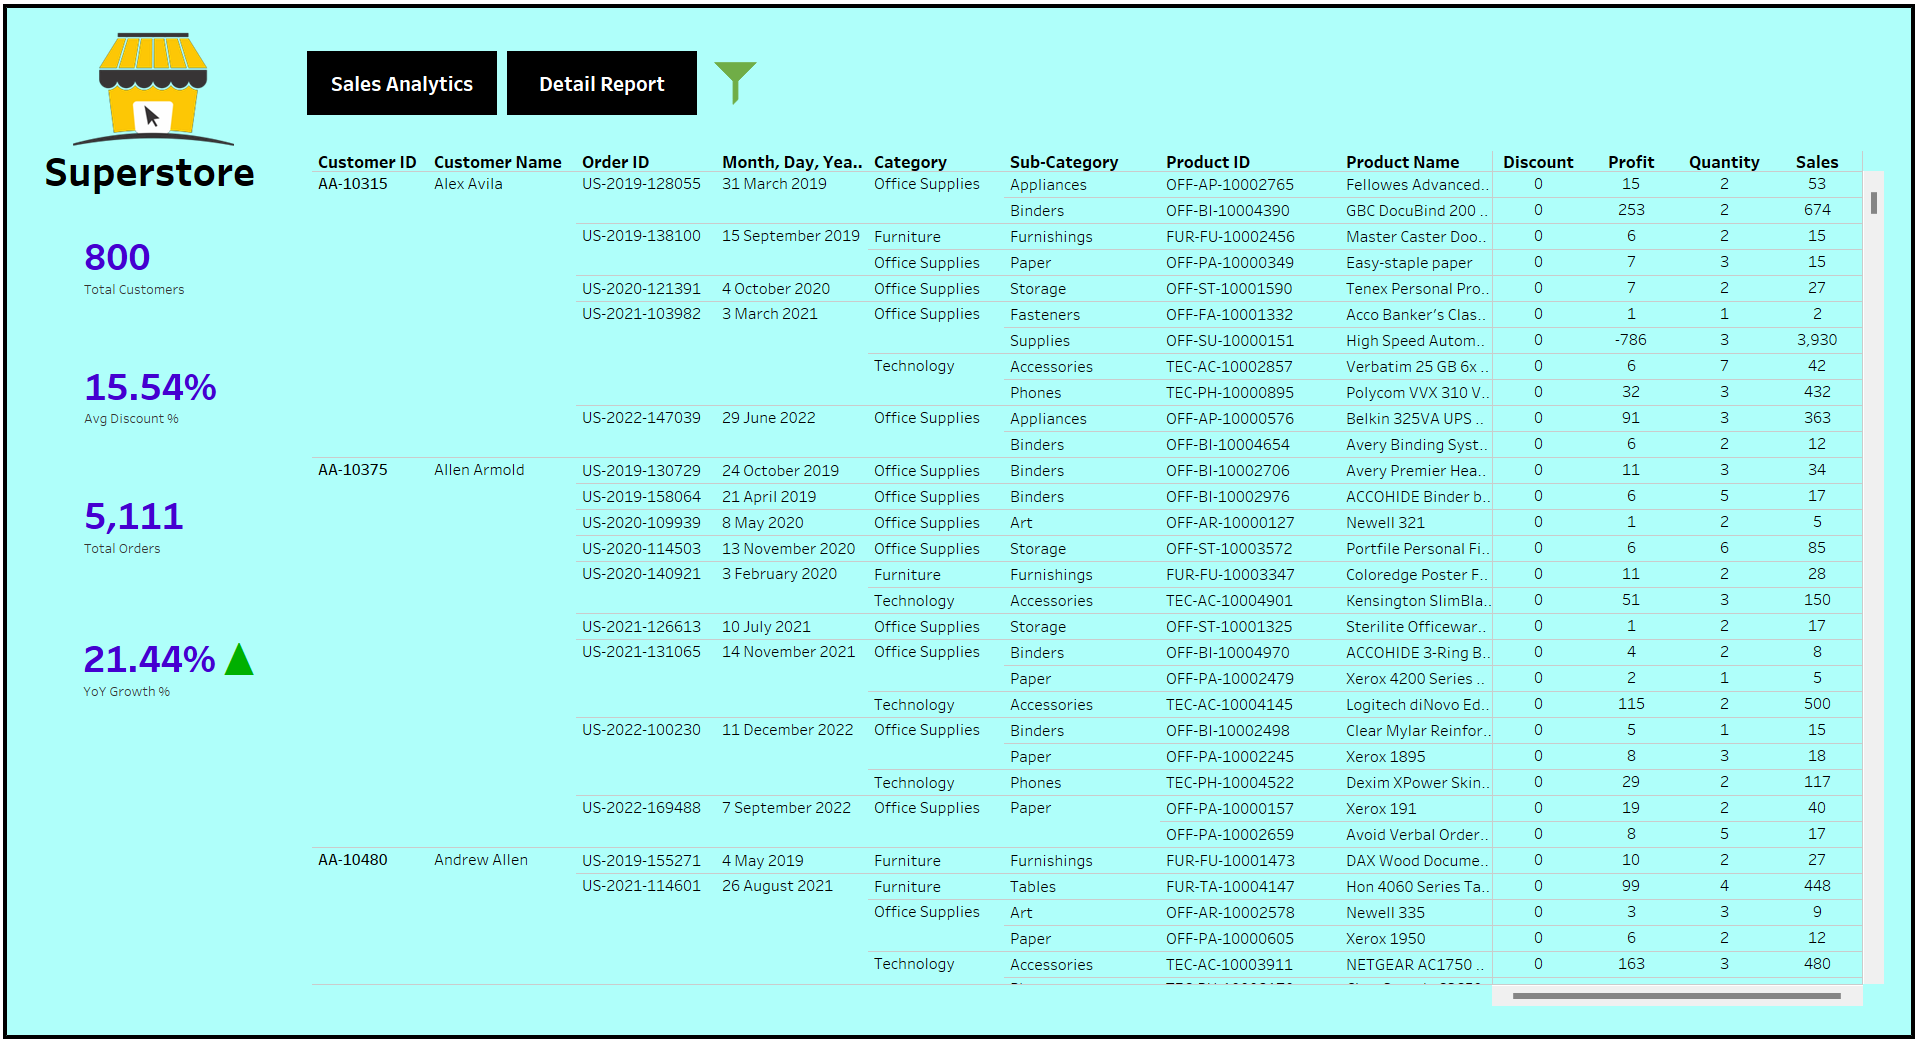

What the dashboard file says about the page in this screenshot:
{"tool":"tableau","page":{"name":"Dashboard 1 (2)","canvas":[1000,1000],"units":"permille","ordinal":1},"visuals":[{"type":"filter","title":"Table","param":"[federated.1g08osg14x8bpp0zy9viw054i5yq].[none:Category:nk]","box":[551,14.1,406.5,38.4]},{"type":"image","param":"Image/Picture1.png","box":[38.7,28.2,83.8,203.3]},{"type":"dashboard-object","box":[160.5,49.4,99,61.1]},{"type":"dashboard-object","box":[264.3,49.4,99,61.1]},{"type":"dashboard-object","box":[368.1,51.7,30.7,56.4]},{"type":"filter","title":"Table","param":"[federated.1g08osg14x8bpp0zy9viw054i5yq].[yr:Order Date:ok]","box":[551,52.5,406.5,38.4]},{"type":"filter","title":"Table","param":"[federated.1g08osg14x8bpp0zy9viw054i5yq].[none:Region:nk]","box":[551,90.9,406.5,38.4]},{"type":"text","box":[21.7,130.4,131.2,64.6]},{"type":"worksheet","title":"Table","mark":"Automatic","rows":["Customer ID","Customer Name","Order ID","Order Date","Category","Sub-Category","Product ID","Product Name"],"box":[162.8,144.5,818.9,820.2]},{"type":"worksheet","title":"Total avg","mark":"Automatic","box":[42.2,220.9,117.1,459.5]},{"type":"worksheet","title":"YoY Growth% (2)","mark":"Automatic","box":[41.6,606.4,117.1,332.6]}]}

Visuals, with their boxes on the dashboard's canvas, which has no fixed pixel size, in thousandths of its width and height (x1, y1, x2, y2). These are canvas units, not pixel positions in the 1918x1041 screenshot, which may show the page scaled, cropped or inside an application window:
"Table" filter: bbox(551, 14, 958, 52)
image: bbox(39, 28, 122, 232)
dashboard-object: bbox(160, 49, 260, 110)
dashboard-object: bbox(264, 49, 363, 110)
dashboard-object: bbox(368, 52, 399, 108)
"Table" filter: bbox(551, 52, 958, 91)
"Table" filter: bbox(551, 91, 958, 129)
text: bbox(22, 130, 153, 195)
"Table" worksheet: bbox(163, 144, 982, 965)
"Total avg" worksheet: bbox(42, 221, 159, 680)
"YoY Growth% (2)" worksheet: bbox(42, 606, 159, 939)
